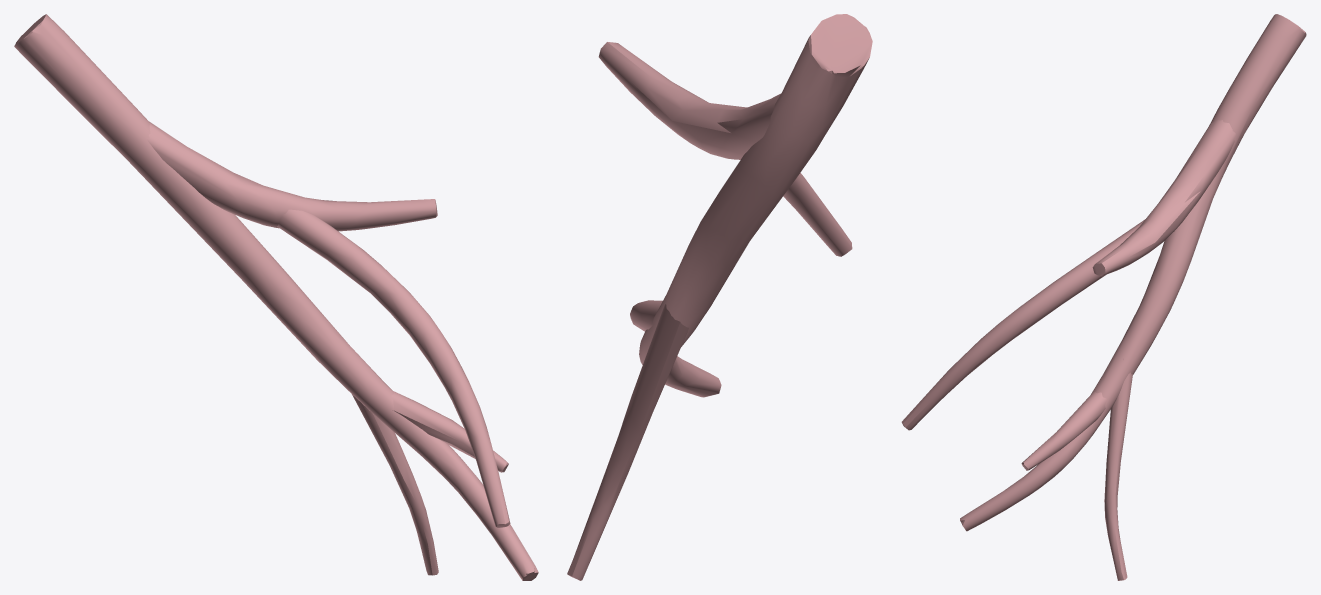
File: fma68231_cx168.glb
The picture shows the model from 3 angles, left to right: view 1: azimuth 30°, elevation 25°; view 2: azimuth 150°, elevation 25°; view 3: azimuth 270°, elevation 25°; orthographic projection. The views are drawn at different scales.
Visible parts, largest first — view 1: FMA68231_CX168; view 2: FMA68231_CX168; view 3: FMA68231_CX168.
Boxes of the visible parts, x1,y1,x2,y2 form: FMA68231_CX168: (14,14,538,580); FMA68231_CX168: (567,14,872,580); FMA68231_CX168: (901,14,1306,580).
Bounding box in the file's own units: 0.0603 × 0.0962 × 0.0783.
